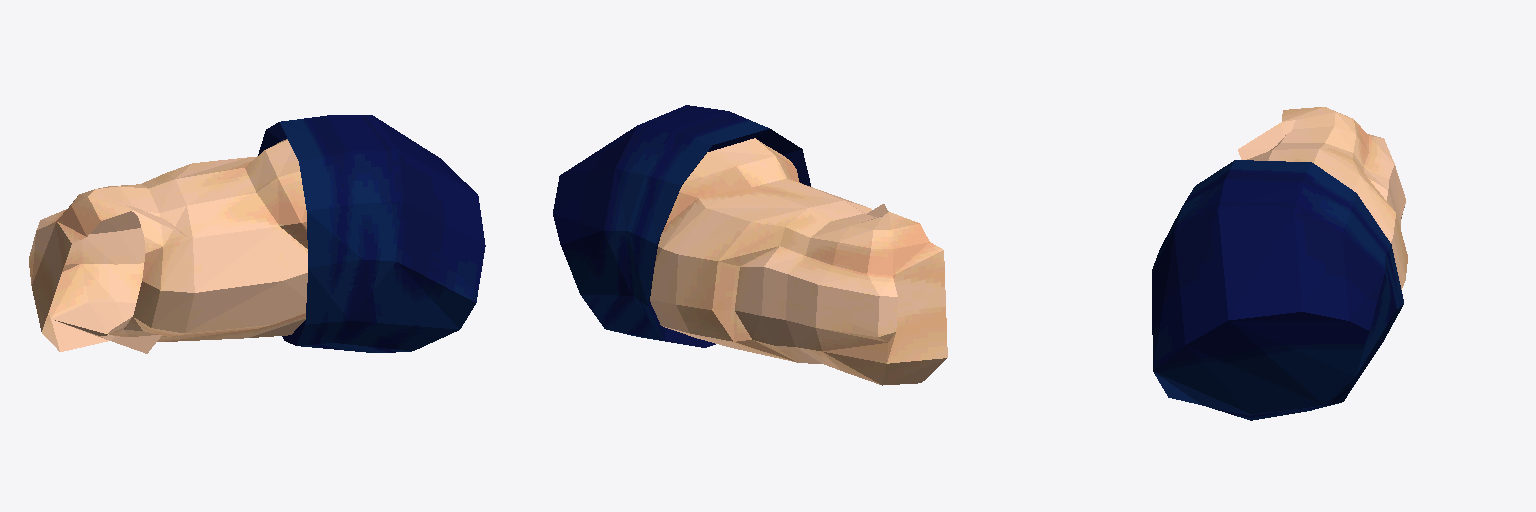
3 renders of one model, left to right at view 1: azimuth 30°, elevation 25°; view 2: azimuth 150°, elevation 25°; view 3: azimuth 270°, elevation 25°, orthographic.
Visible parts, largest first — view 1: Mesh.404_DrawCall_231; view 2: Mesh.404_DrawCall_231; view 3: Mesh.404_DrawCall_231.
Boxes of the visible parts, <box> form: Mesh.404_DrawCall_231: <box>29,115,485,353</box>; Mesh.404_DrawCall_231: <box>553,105,947,385</box>; Mesh.404_DrawCall_231: <box>1152,107,1407,420</box>.
Bounding box in the file's own units: 9.22 × 5.04 × 5.19.
Materials: 1 (1 with a texture image).